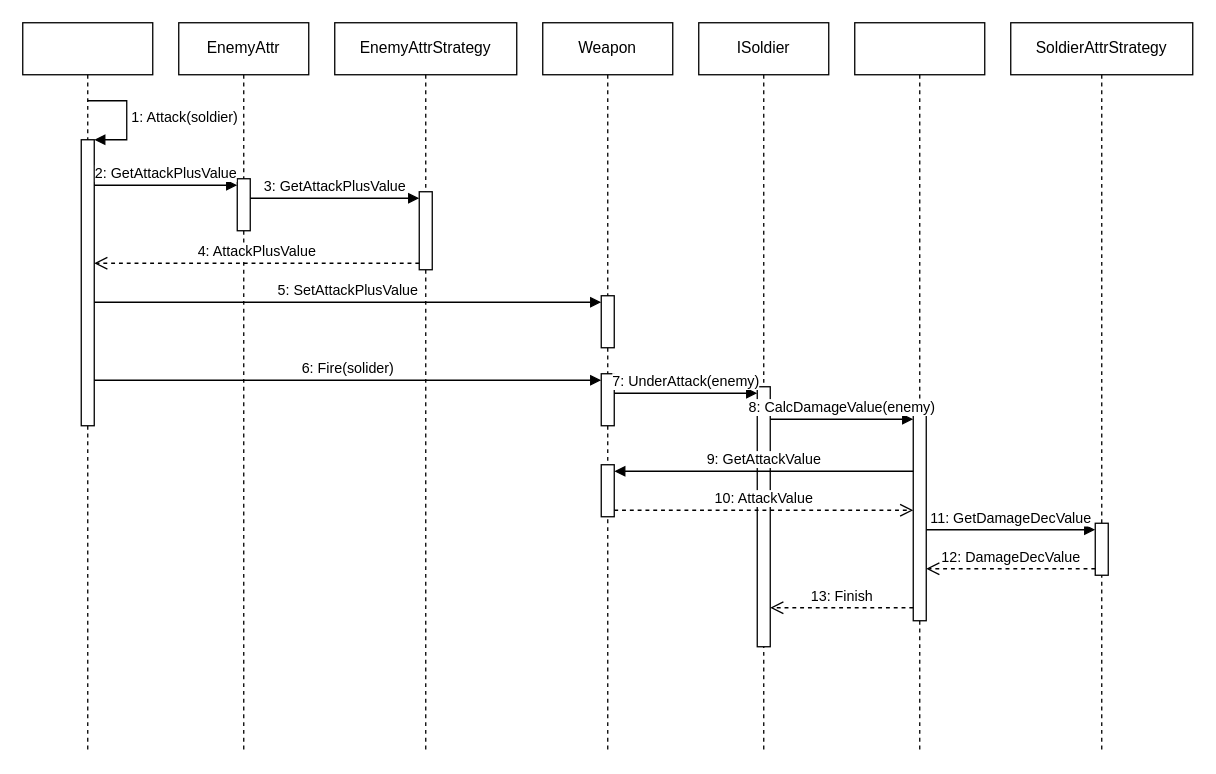
This 1216x774 diagram has some shape labels left out. Each missing label, with the box of its shape:
IEnemy: (21, 21, 153, 751)
SoldierAttr: (853, 21, 985, 751)
